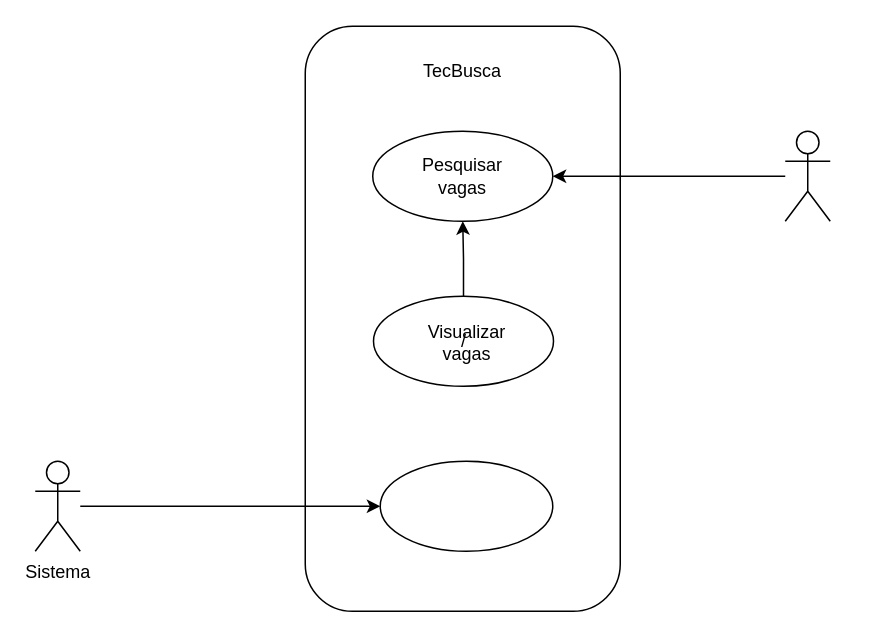
This 873x638 diagram has some shape labels left out. Here are the shapes that lost their labels. From the top down, the centre of each, then its label:
point 807,175: candidato
point 466,505: Cadastrar vagas
